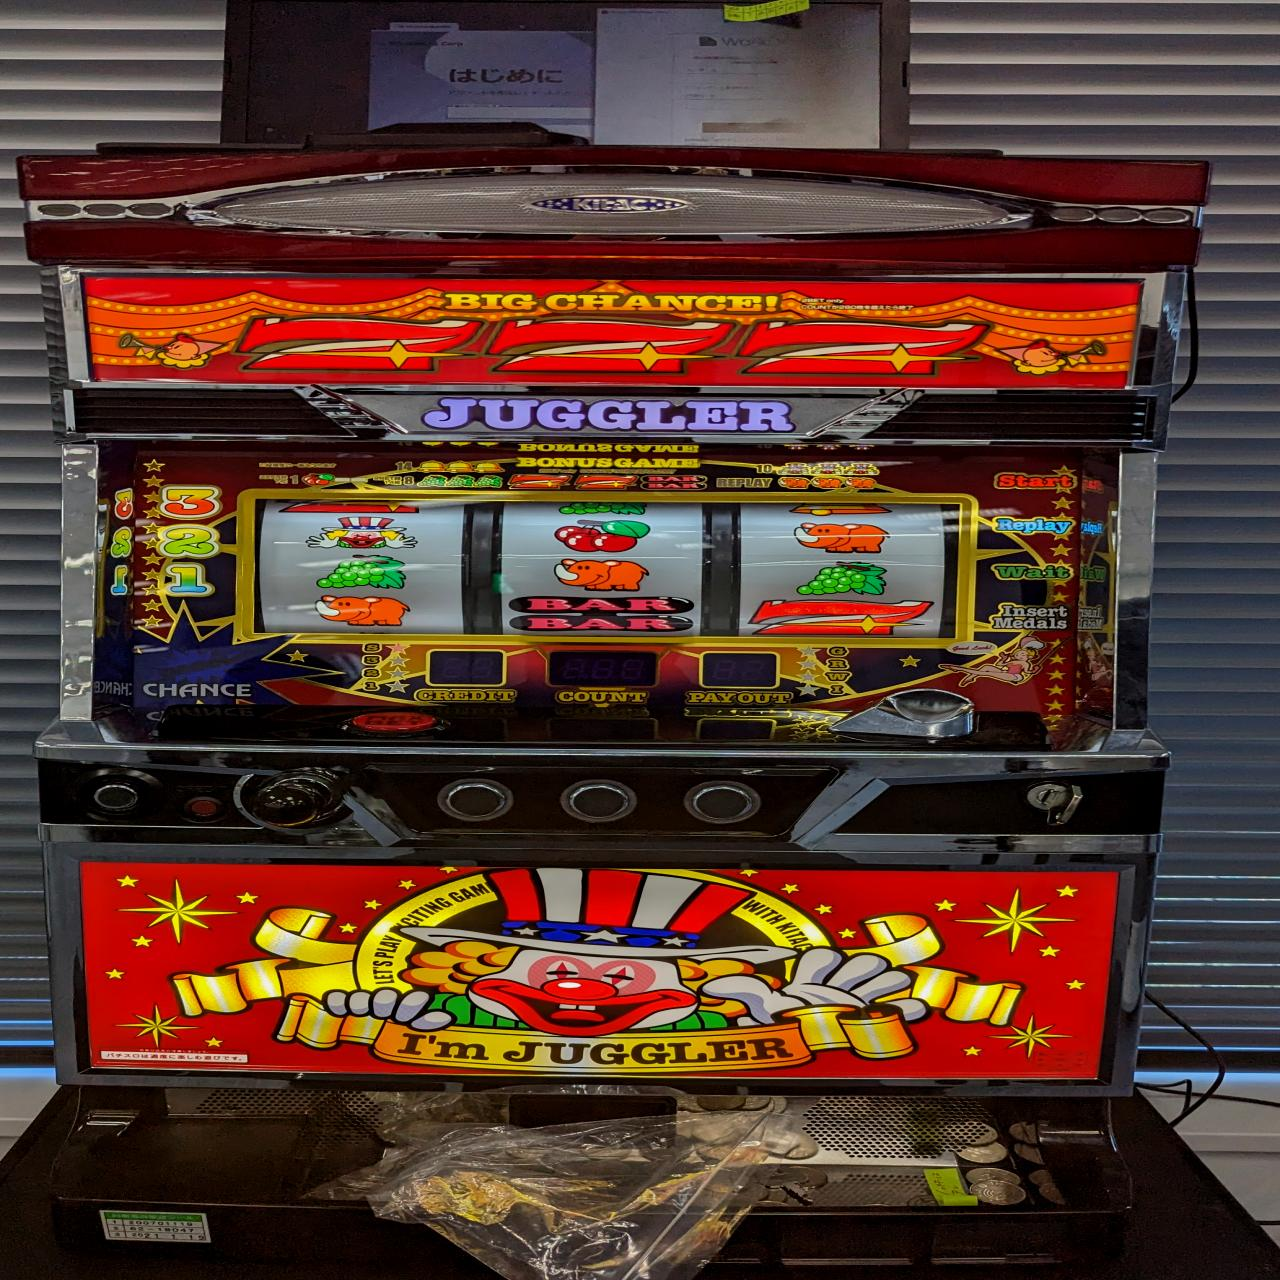7: (744, 598, 937, 638)
8: (783, 519, 894, 556), (546, 556, 652, 592), (306, 593, 413, 628)
Display: (250, 497, 966, 639)
bar: (497, 593, 695, 632)
cherry: (550, 517, 653, 554)
clown: (306, 515, 420, 553)
grape: (791, 557, 891, 599), (312, 553, 410, 593)
